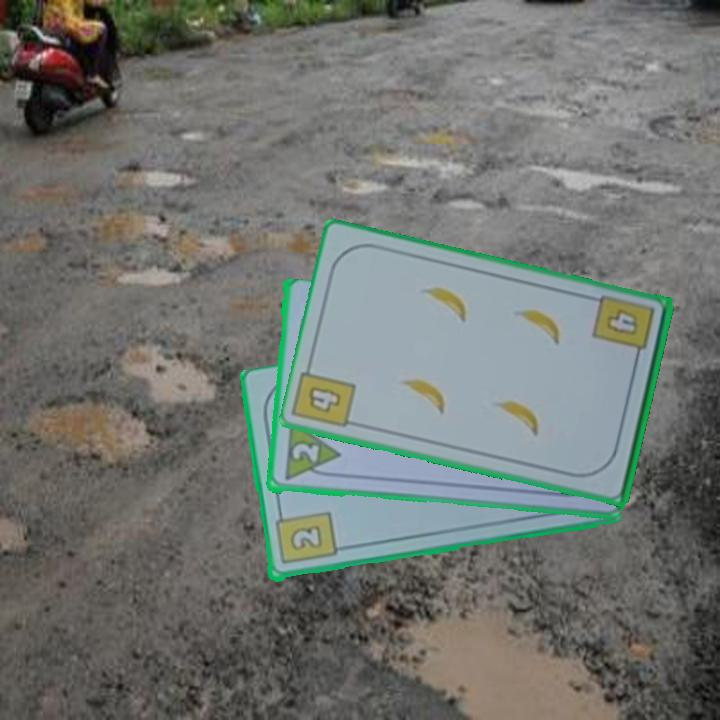2b: (271, 506, 339, 568)
2p: (288, 440, 322, 466)
4b: (590, 291, 657, 366), (304, 383, 344, 417)
